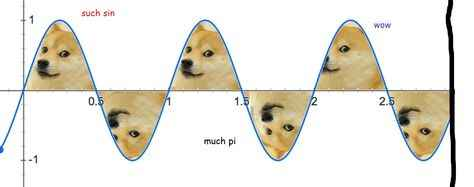doge: (238, 89, 315, 163), (170, 18, 239, 97), (315, 23, 387, 95), (23, 20, 95, 91), (386, 85, 451, 161), (97, 88, 165, 160)
